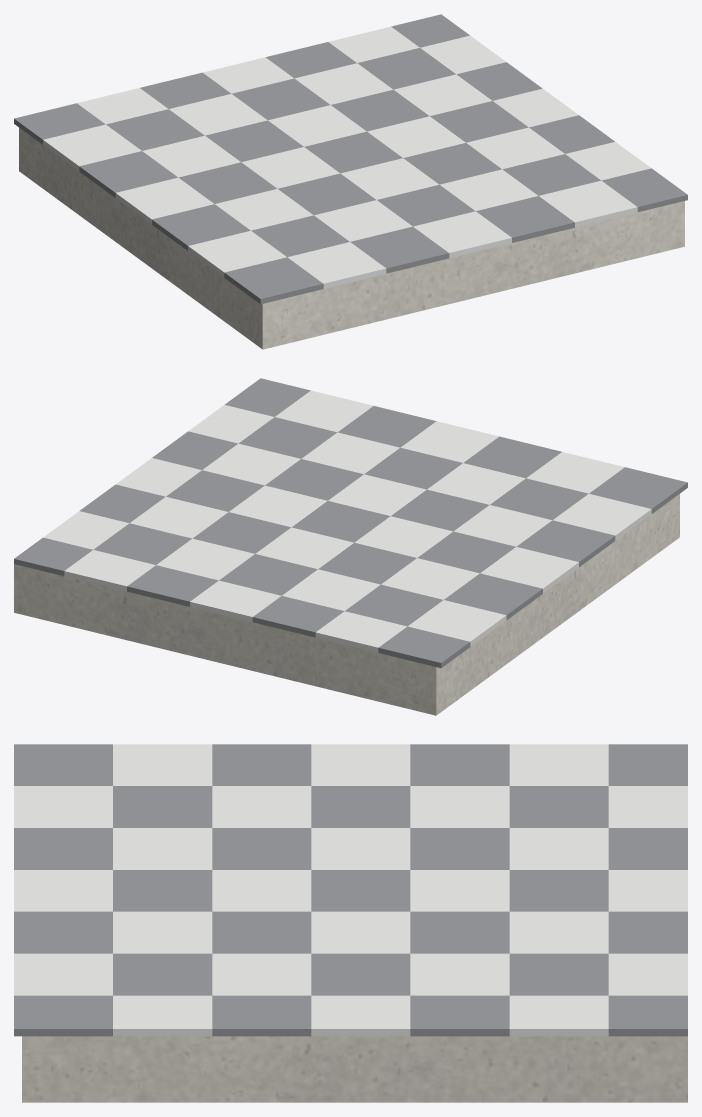
File: floor_tile_u_e0_30_30_0.glb
3 renders of one model, top to bottom at view 1: azimuth 30°, elevation 25°; view 2: azimuth 150°, elevation 25°; view 3: azimuth 270°, elevation 25°, orthographic. The views are drawn at different scales.
Parts seen in each view (by area): view 1: floor_tile_u_e0_30_30_0_slate, floor_tile_u_e0_30_30_0_tile, floor_tile_u_e0_30_30_0_plaster; view 2: floor_tile_u_e0_30_30_0_slate, floor_tile_u_e0_30_30_0_tile, floor_tile_u_e0_30_30_0_plaster; view 3: floor_tile_u_e0_30_30_0_slate, floor_tile_u_e0_30_30_0_tile, floor_tile_u_e0_30_30_0_plaster.
Boxes of the visible parts, x1,y1,x2,y2 form: floor_tile_u_e0_30_30_0_slate: (14, 14, 687, 304); floor_tile_u_e0_30_30_0_tile: (43, 26, 651, 288); floor_tile_u_e0_30_30_0_plaster: (19, 128, 684, 349); floor_tile_u_e0_30_30_0_slate: (14, 378, 687, 668); floor_tile_u_e0_30_30_0_tile: (43, 390, 651, 652); floor_tile_u_e0_30_30_0_plaster: (14, 494, 679, 715); floor_tile_u_e0_30_30_0_slate: (14, 744, 687, 1036); floor_tile_u_e0_30_30_0_tile: (14, 744, 687, 1036); floor_tile_u_e0_30_30_0_plaster: (22, 1036, 687, 1102).
Size of the model in its own units: 1.7 by 0.205 by 1.7.
3 materials, 1 textured.
